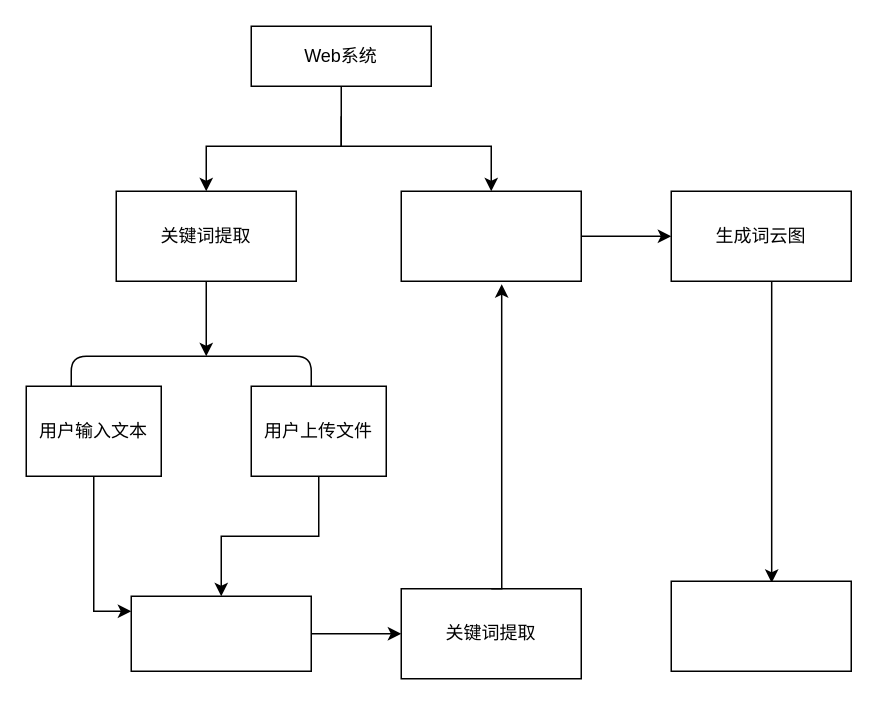
Some shapes in this 878 by 705 pixel diagram are drawn without their labels. Here are the shapes that lost their labels. From the top down, the centre of each, then its label:
At pixel 490 235: "可视化展示".
At pixel 220 633: "文本预处理".
At pixel 760 625: "网页展示".
